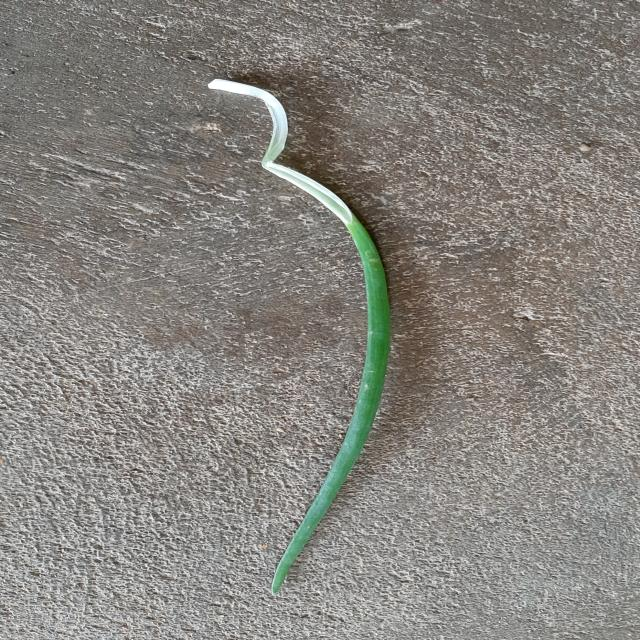onion: (209, 79, 390, 565)
